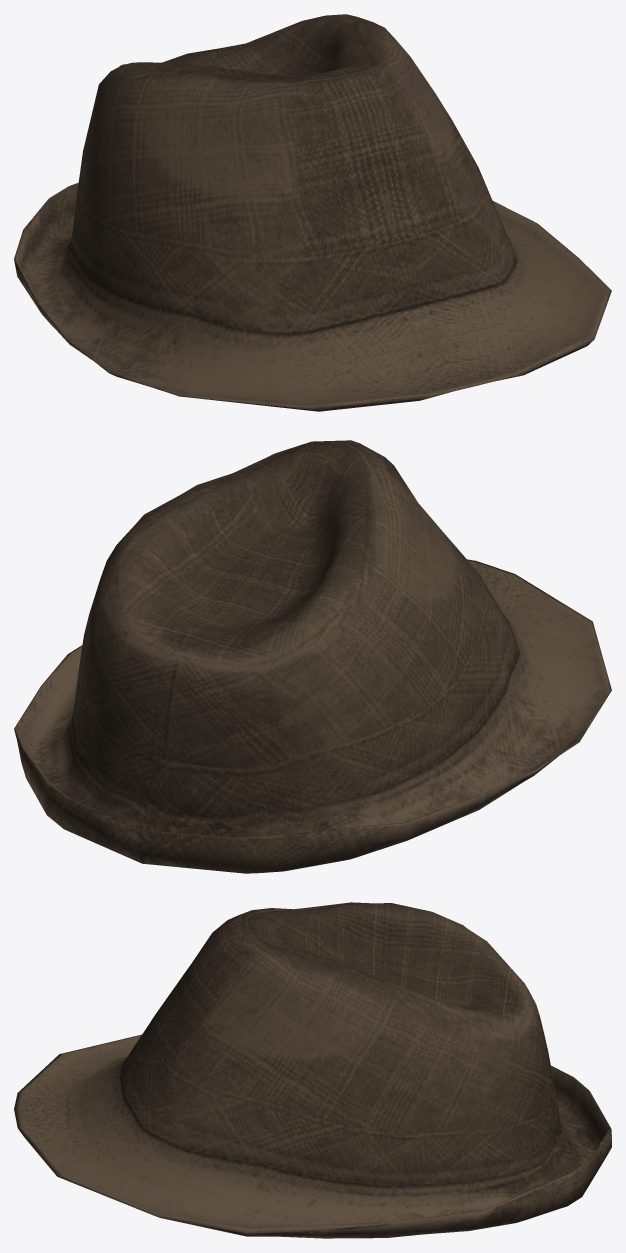
Rendered from female_hat.glb.
The picture shows the model from 3 angles, top to bottom: view 1: azimuth 30°, elevation 25°; view 2: azimuth 150°, elevation 25°; view 3: azimuth 270°, elevation 25°; orthographic projection. The views are drawn at different scales.
Visible parts, largest first — view 1: hat; view 2: hat; view 3: hat.
Boxes of the visible parts, x1,y1,x2,y2 form: hat: [14, 14, 611, 411]; hat: [14, 440, 611, 873]; hat: [14, 902, 611, 1238].
Bounding box in the file's own units: 0.195 × 0.1096 × 0.2429.
1 material, 1 textured.
